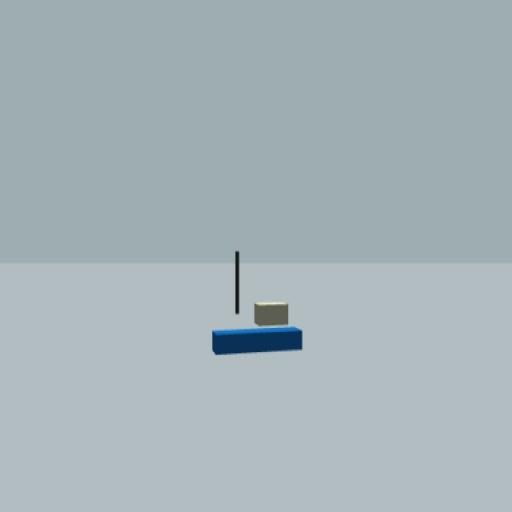fishing_boat: (212, 248, 305, 355)
